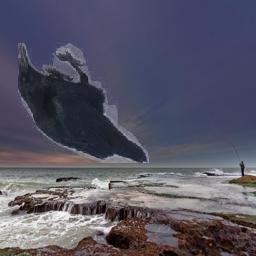Crow: (19, 43, 150, 163)
